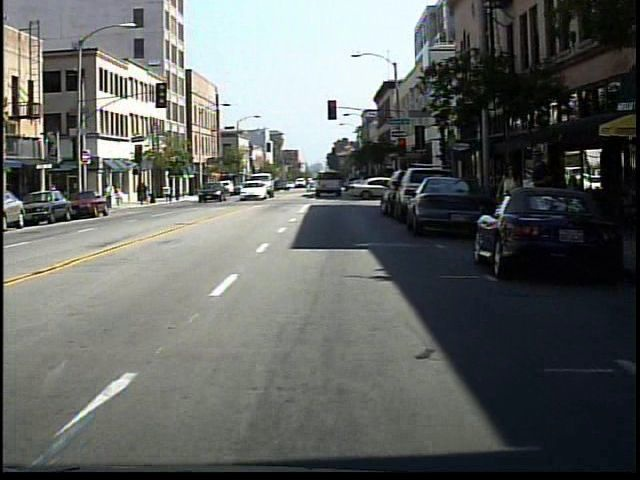person: (520, 143, 555, 252), (496, 155, 523, 249), (102, 180, 117, 206), (117, 185, 130, 211)
